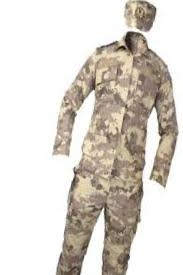uniform: (50, 1, 183, 273)
